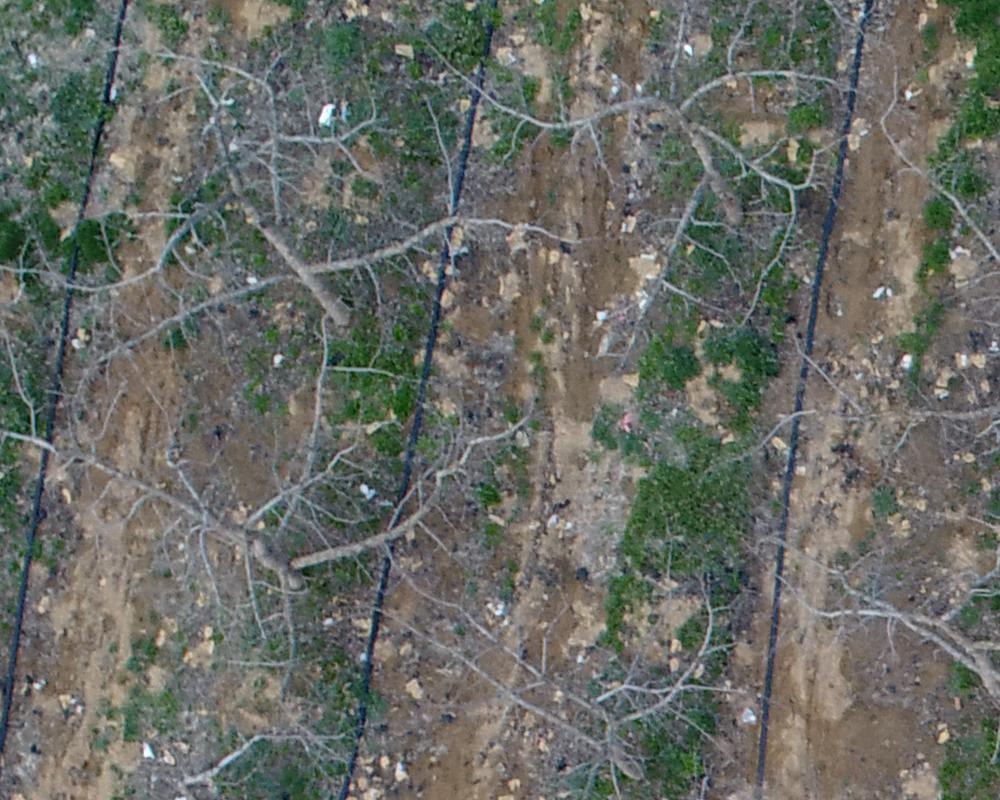apple: (28, 38, 596, 395), (43, 306, 534, 702), (416, 12, 876, 331), (744, 51, 990, 545), (352, 551, 730, 790), (752, 492, 990, 790)
